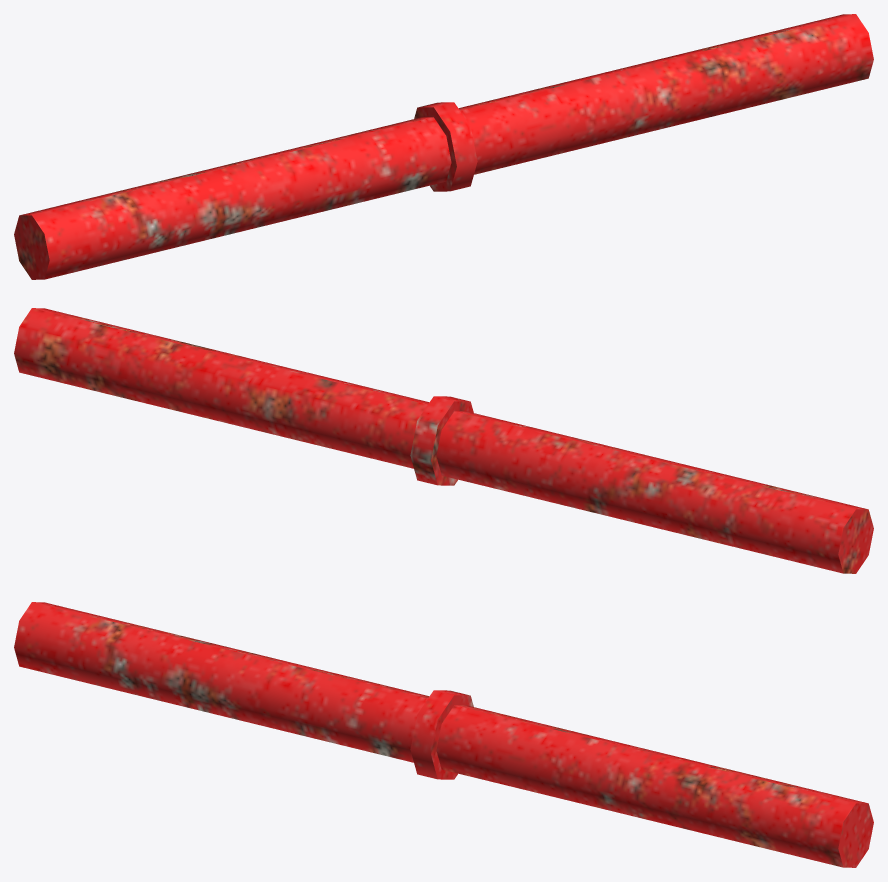
The model's file is SM_PROP_PIPE_METAL_00.fbx.
3 renders of one model, top to bottom at view 1: azimuth 30°, elevation 25°; view 2: azimuth 150°, elevation 25°; view 3: azimuth 330°, elevation 25°, orthographic.
Visible parts, largest first — view 1: SM_PROP_PIPE_METAL_00; view 2: SM_PROP_PIPE_METAL_00; view 3: SM_PROP_PIPE_METAL_00.
Boxes of the visible parts, x1=… form: SM_PROP_PIPE_METAL_00: x1=14, y1=14, x2=873, y2=279; SM_PROP_PIPE_METAL_00: x1=14, y1=308, x2=873, y2=573; SM_PROP_PIPE_METAL_00: x1=14, y1=602, x2=873, y2=867.
Size of the model in its own units: 4 by 0.3917 by 0.3917.
